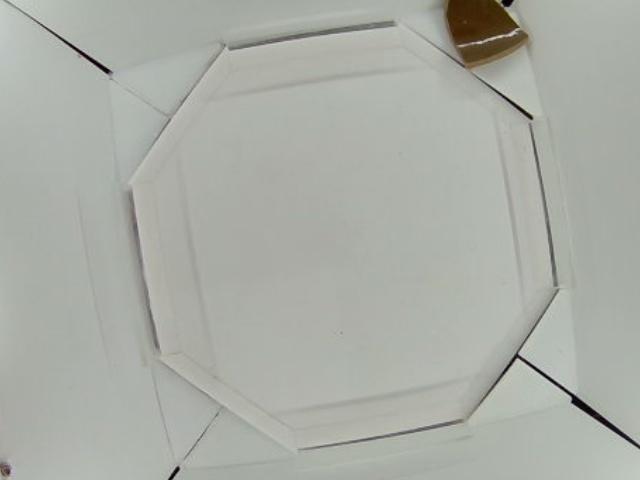China: (433, 1, 530, 71)
